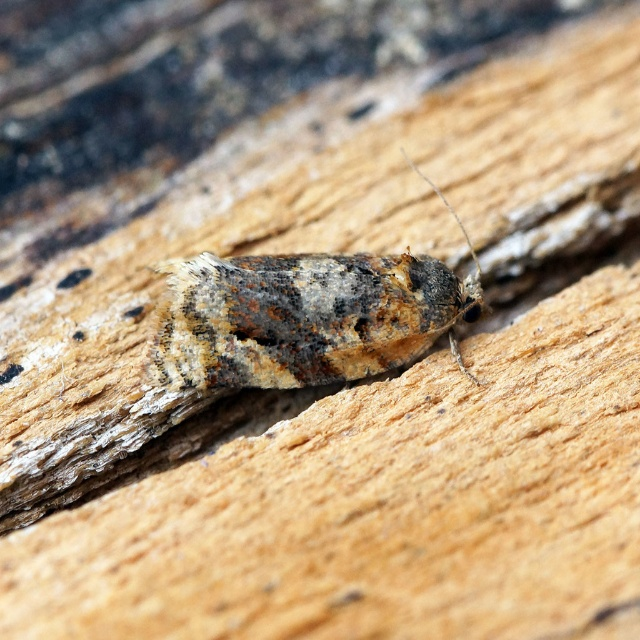Moths and butterflies: (142, 141, 501, 392)
